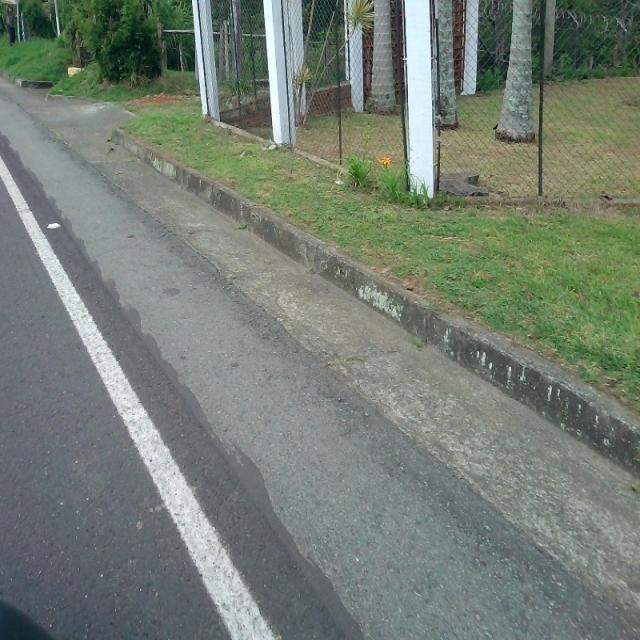DITCH: (1, 6, 638, 638), (2, 81, 638, 638)
